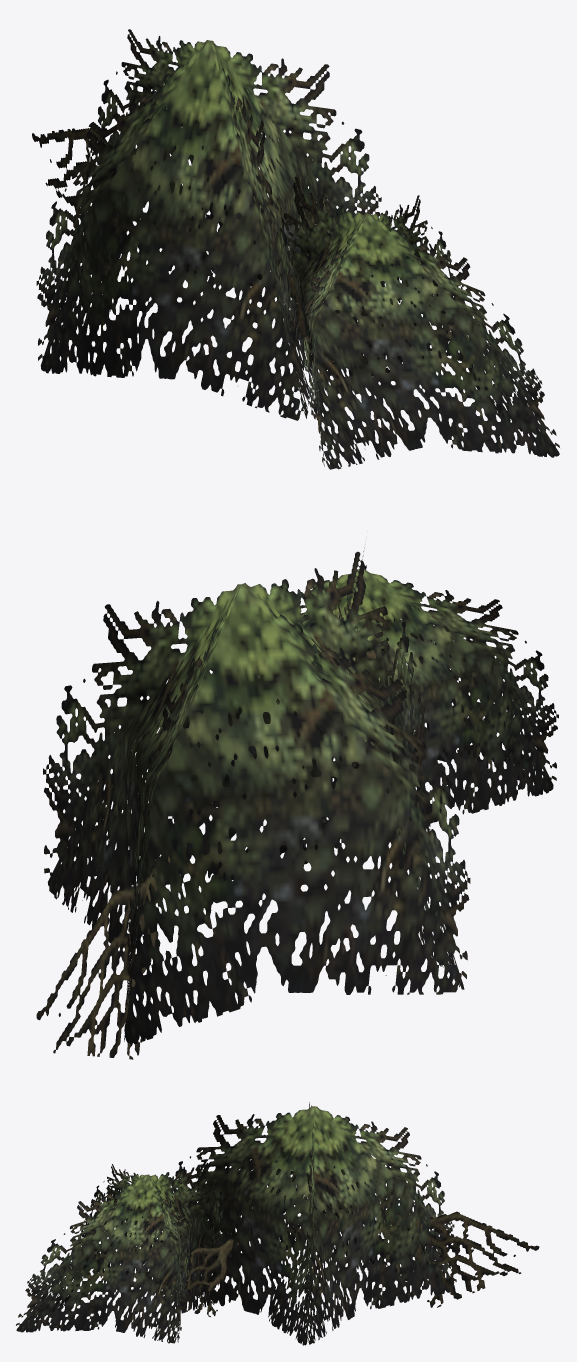
The model's file is duskwoodbush04.glb.
The picture shows the model from 3 angles, top to bottom: view 1: azimuth 30°, elevation 25°; view 2: azimuth 150°, elevation 25°; view 3: azimuth 270°, elevation 25°; orthographic projection. The views are drawn at different scales.
Bounding box in the file's own units: 5.1 × 4.55 × 10.52.
1 material, 1 textured.
